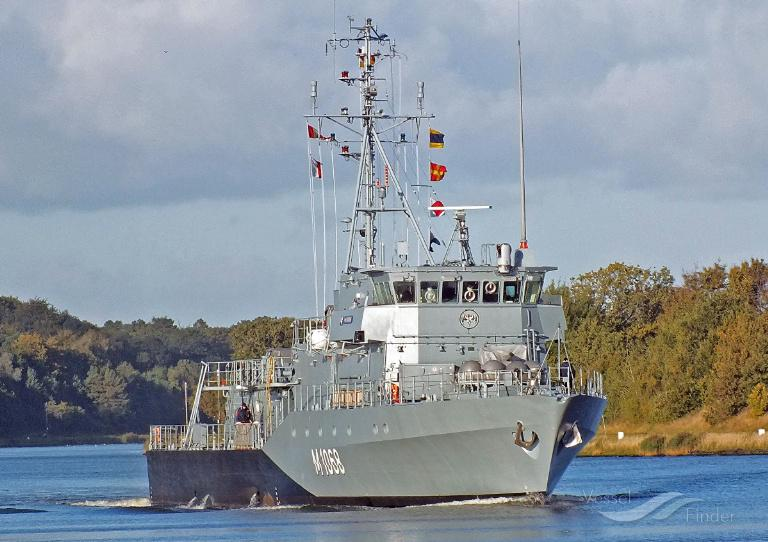OCR: (307, 441, 347, 481)
